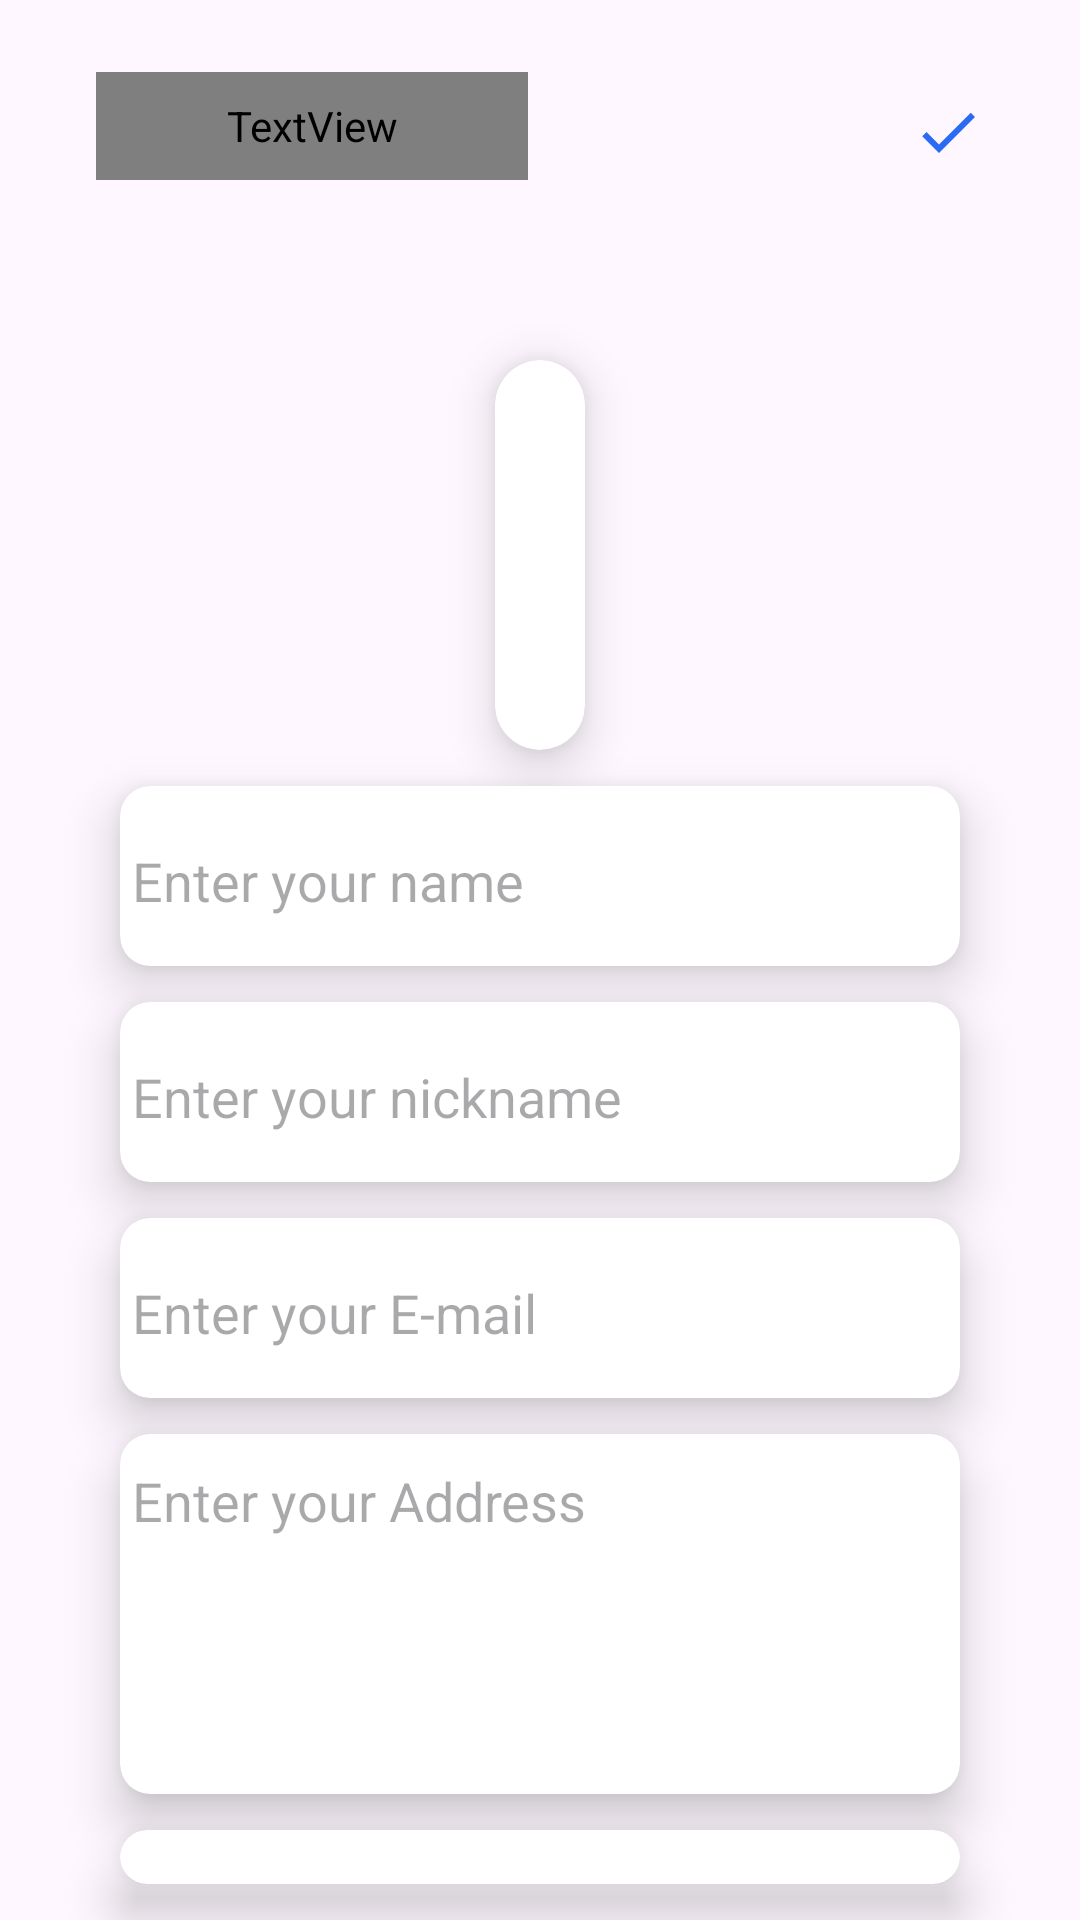

Screen size 1080 x 1920. Icon name, then its box in pixels as (x1, y1, x2, y2):
check: (922, 113, 975, 153)
